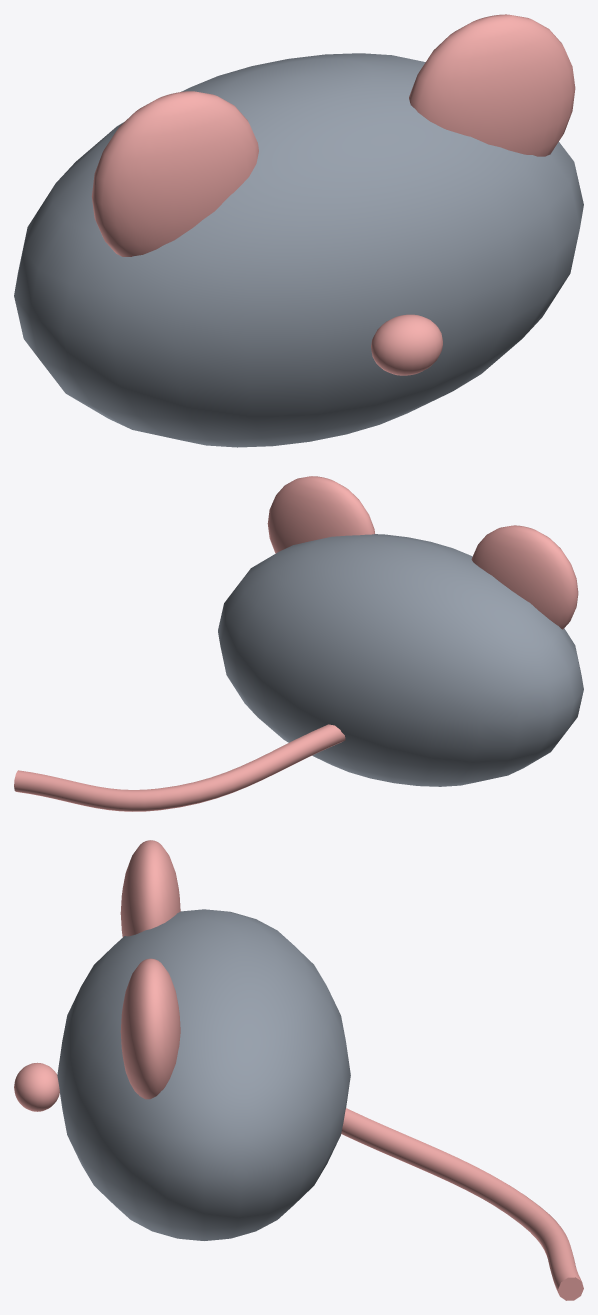
Rendered from toy-mouse.glb.
The picture shows the model from 3 angles, top to bottom: view 1: azimuth 30°, elevation 25°; view 2: azimuth 150°, elevation 25°; view 3: azimuth 270°, elevation 25°; orthographic projection. The views are drawn at different scales.
Parts seen in each view (by area): view 1: Toy mouse, Mouse ear, Mouse ear.001, Mouse nose; view 2: Toy mouse, Mouse tail, Mouse ear, Mouse ear.001; view 3: Toy mouse, Mouse tail, Mouse ear.001, Mouse ear, Mouse nose.
Boxes of the visible parts, left/top/right/bottom form: Toy mouse: left=14, top=53, right=583, bottom=447; Mouse ear: left=91, top=91, right=258, bottom=256; Mouse ear.001: left=409, top=14, right=575, bottom=156; Mouse nose: left=371, top=314, right=442, bottom=375; Toy mouse: left=218, top=534, right=583, bottom=786; Mouse tail: left=14, top=724, right=345, bottom=811; Mouse ear: left=471, top=525, right=578, bottom=629; Mouse ear.001: left=267, top=476, right=374, bottom=553; Toy mouse: left=57, top=909, right=350, bottom=1240; Mouse tail: left=341, top=1108, right=583, bottom=1300; Mouse ear.001: left=120, top=958, right=180, bottom=1099; Mouse ear: left=120, top=840, right=180, bottom=937; Mouse nose: left=14, top=1062, right=59, bottom=1111.
Bounding box in the file's own units: 0.8445 × 0.5 × 0.8544.
